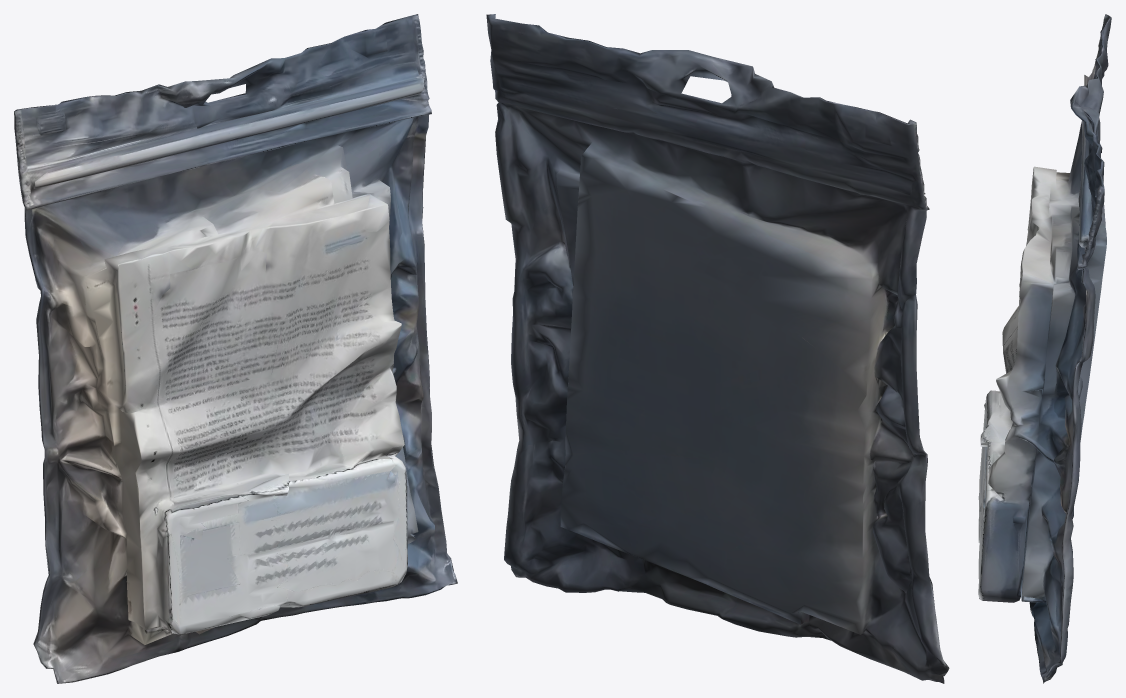
File: kit-documentos-saco.glb
3 renders of one model, left to right at view 1: azimuth 30°, elevation 25°; view 2: azimuth 150°, elevation 25°; view 3: azimuth 270°, elevation 25°, orthographic. The views are drawn at different scales.
Parts seen in each view (by area): view 1: tripo_node_c21388be-0879-4a65-925e-878d995a568a; view 2: tripo_node_c21388be-0879-4a65-925e-878d995a568a; view 3: tripo_node_c21388be-0879-4a65-925e-878d995a568a.
Part boxes in pixels (box(x1,y1,x2,y2)): tripo_node_c21388be-0879-4a65-925e-878d995a568a: box(14, 14, 457, 683); tripo_node_c21388be-0879-4a65-925e-878d995a568a: box(486, 14, 949, 683); tripo_node_c21388be-0879-4a65-925e-878d995a568a: box(978, 14, 1111, 683).
Bounding box in the file's own units: 0.7634 × 0.9793 × 0.239.
Materials: 1 (1 with a texture image).
